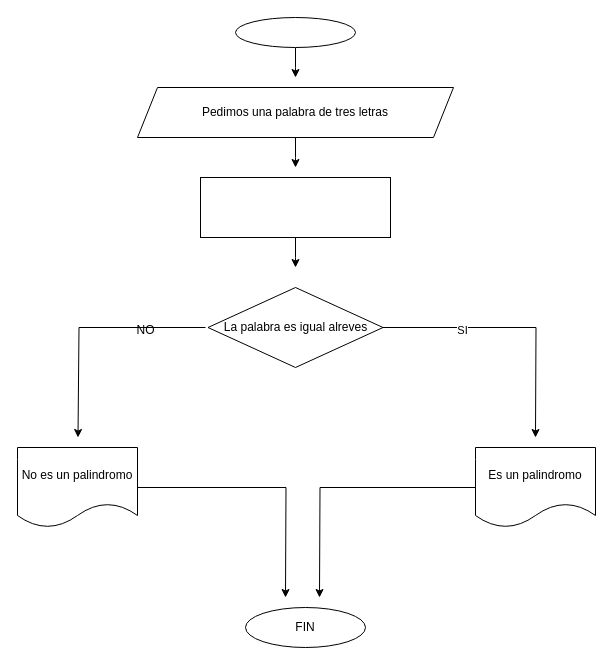
This 613x665 diagram has some shape labels left out. Here are the shapes that lost their labels. From the top down, the box of each, then its label:
(234, 16, 356, 48): INICIO
(200, 176, 390, 238): palabra [:-1]
